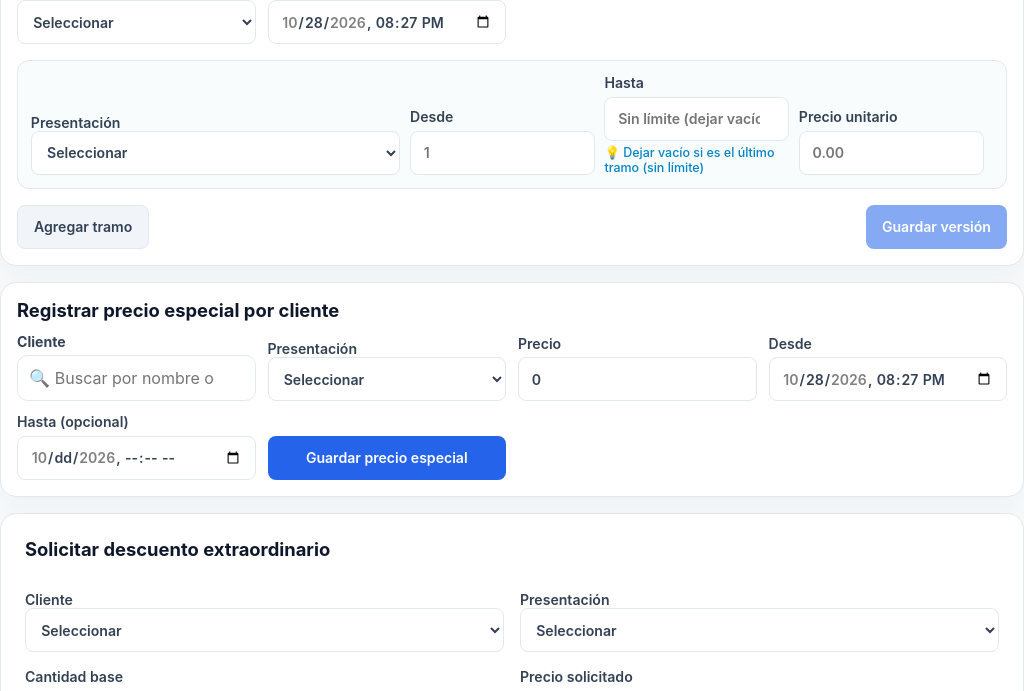
Test: PricingPage › muestra etiqueta Creado en ruta y nota explicativa cuando el cliente proviene de ruta
This screenshot has width=1024, height=691.
(page scrolled)
Focus the dropdown with placeholder "Buscar por nombre o código..." below "Registrar precio especial por cliente" at (136, 378), box [17,355,256,401]
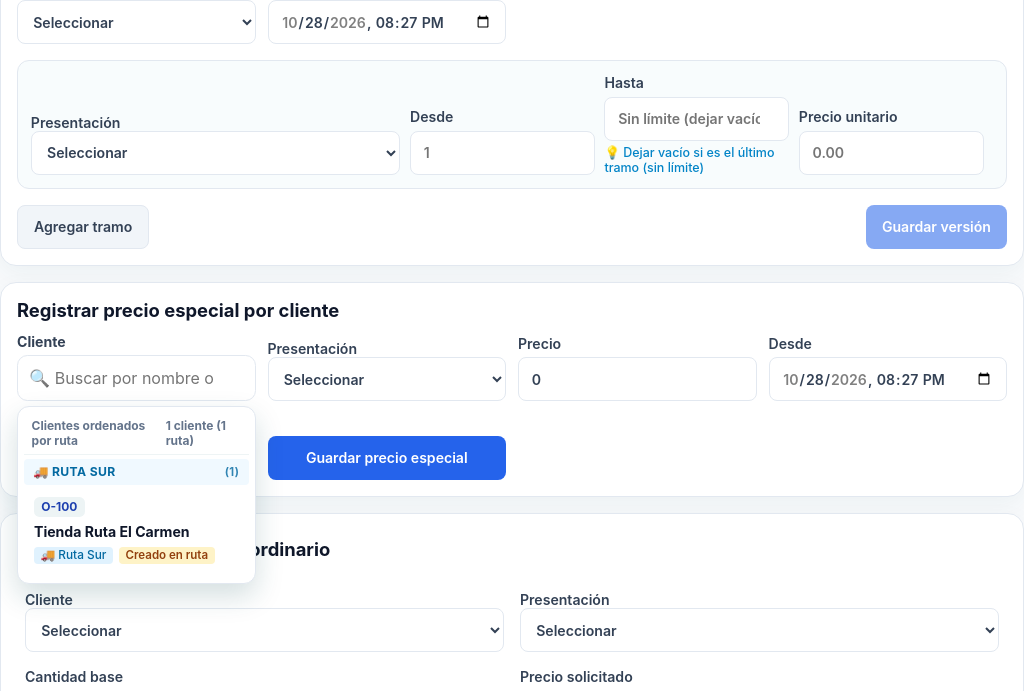
Expected: the list is shown, [17,406,256,584]
Expected: the text "Creado en ruta" is shown, [119,547,214,564]
Click the option "O-100 Tienda Ruta El Carmen 🚚 Ruta Sur Creado en ruta".
click(136, 530)  # box [24,489,249,572]
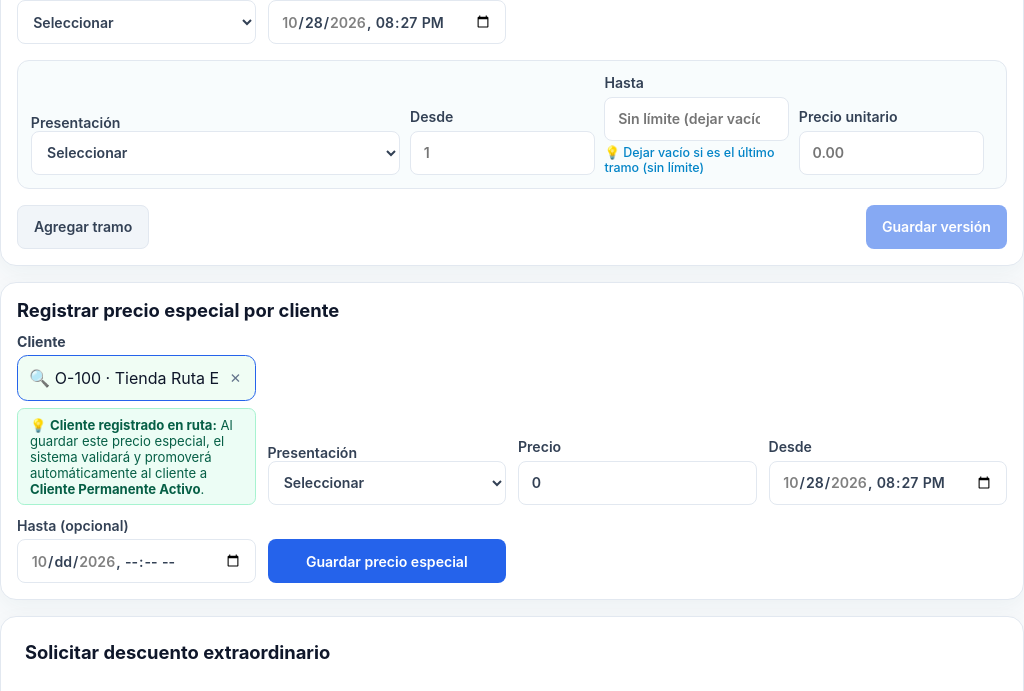
Expected: the text "Cliente registrado en ruta:" is shown, [50,417,217,433]
Expected: the text "Cliente Permanente Activo" is shown, [30,481,200,497]
